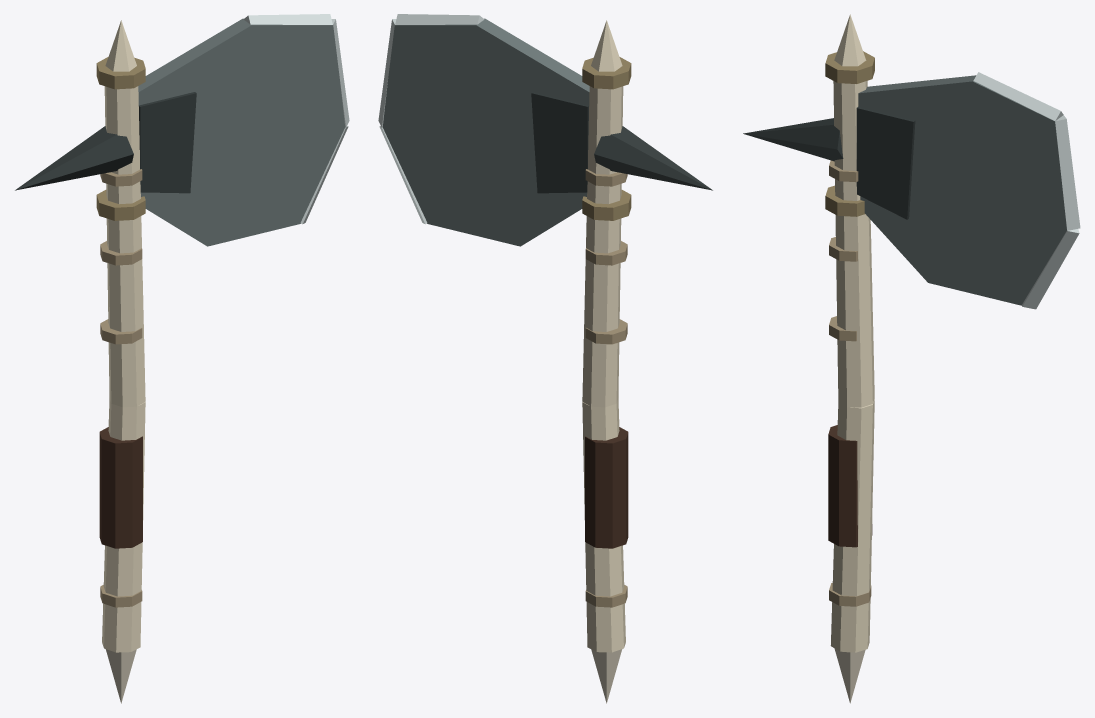
File: whalebone_axe.glb
The picture shows the model from 3 angles, left to right: view 1: azimuth 30°, elevation 25°; view 2: azimuth 150°, elevation 25°; view 3: azimuth 330°, elevation 25°; orthographic projection.
Parts seen in each view (by area): view 1: whalebone_axe; view 2: whalebone_axe; view 3: whalebone_axe.
Boxes of the visible parts, x1,y1,x2,y2 form: whalebone_axe: (15,14,349,703); whalebone_axe: (378,14,712,703); whalebone_axe: (743,14,1080,703).
Size of the model in its own units: 1.07 by 2.08 by 0.14.
